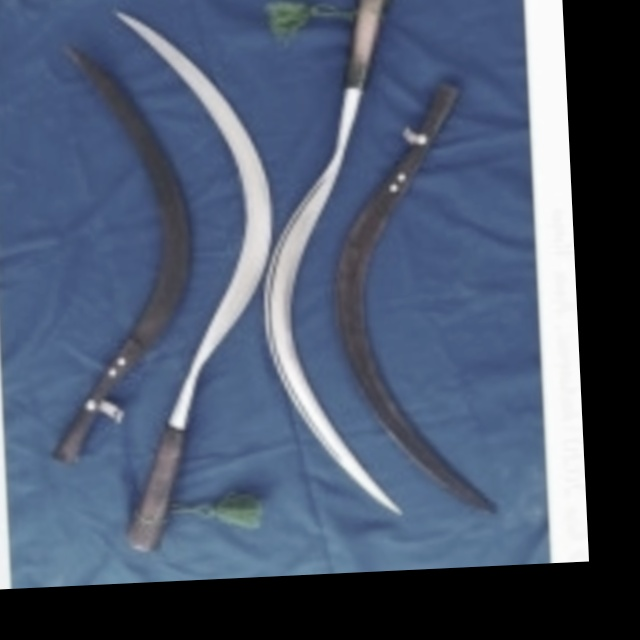Sharp-Object: (96, 0, 296, 561), (242, 0, 425, 536)
